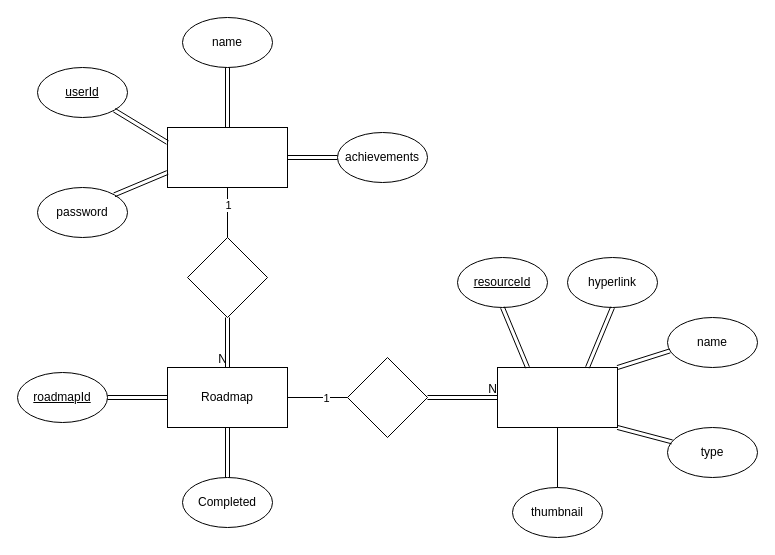
This 775x555 diagram has some shape labels left out. Each missing label, with the box of its shape:
contains: (346, 356, 428, 438)
has: (186, 236, 268, 318)
Resource: (496, 366, 618, 428)
User: (166, 126, 288, 188)
